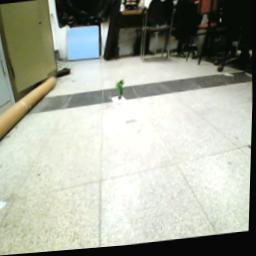herb: (116, 81, 127, 104)
